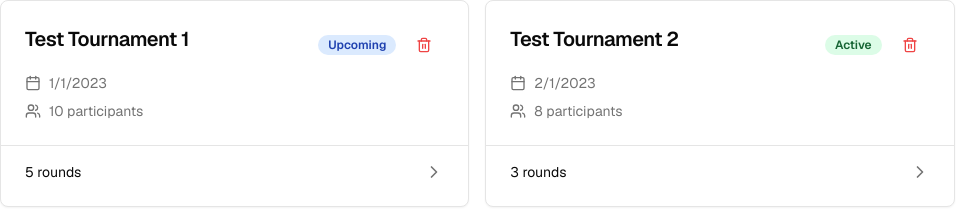
Test case: TournamentList - Isolated Tests › deletes tournament when delete button is clicked by JUDGE
The image size is (972, 224).
Click the button without text next to "Upcoming".
click(424, 45)  # box [404,25,444,65]
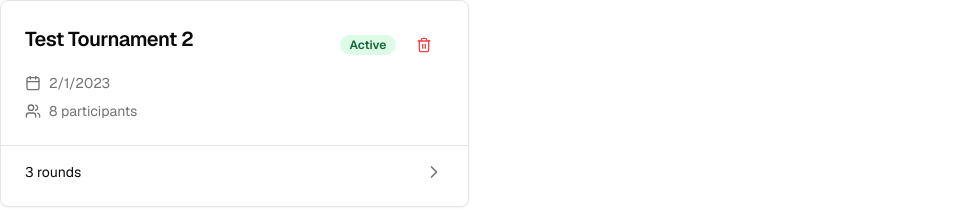
expect the text "Test Tournament 1" is gone: met
